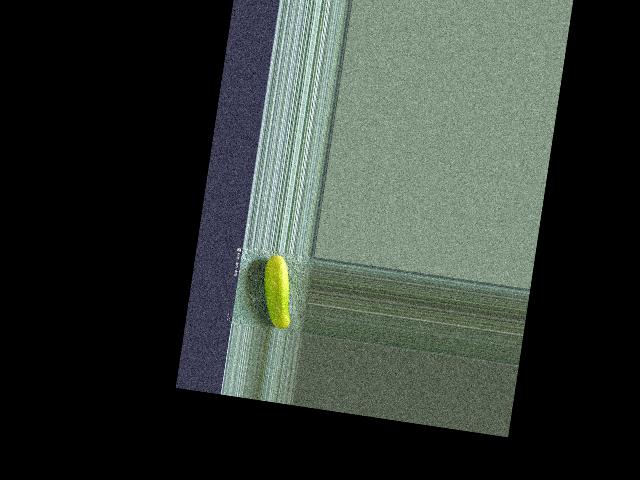cucumber: (256, 253, 299, 330)
